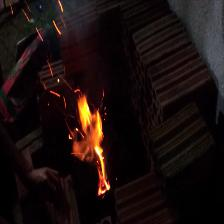fire: (53, 78, 129, 199)
